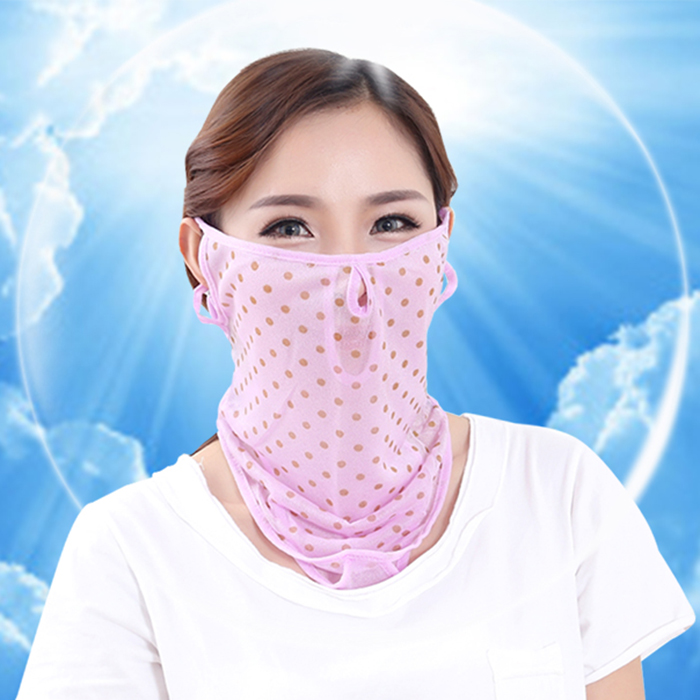face_mask: (217, 106, 448, 440)
